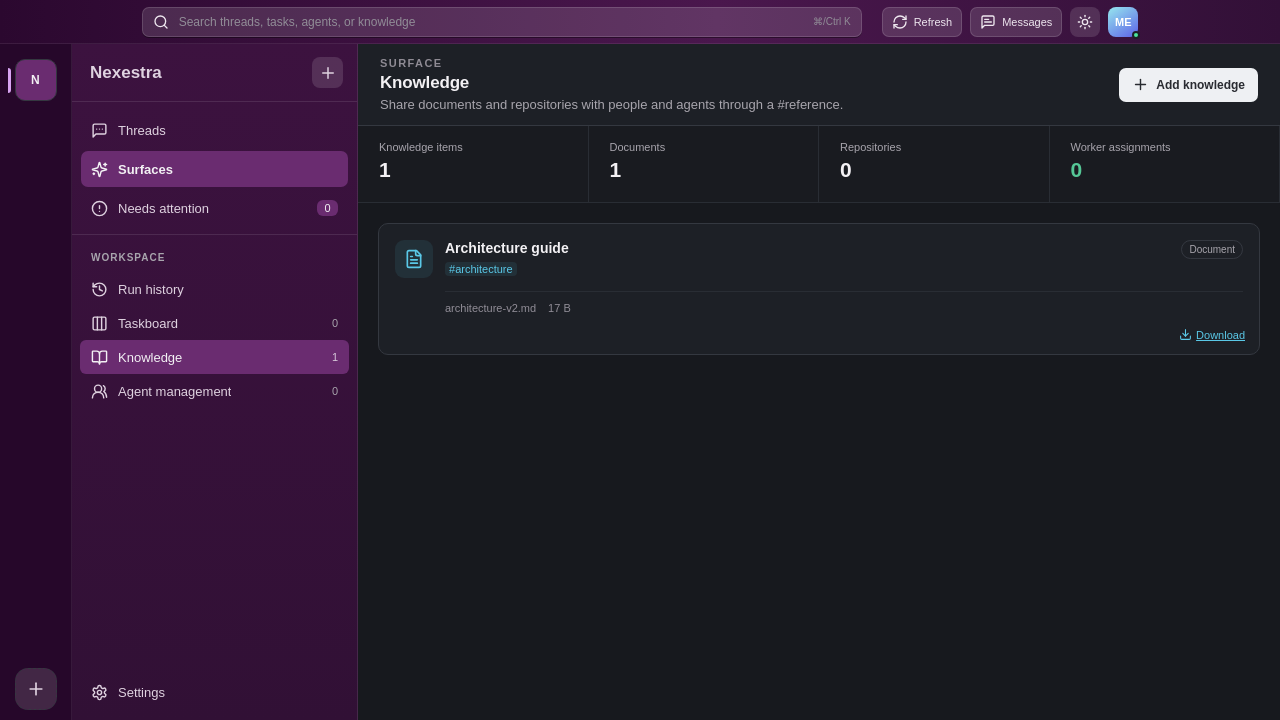
Test: Knowledge document revisions › fetches version history when the detail view opens and keeps old revision downloads
Expected: the heading "Knowledge" is shown, [380,73,469,92]
Click the button with aria-label "View details for Architecture guide" at (819,289), box [379,224,1259,354]
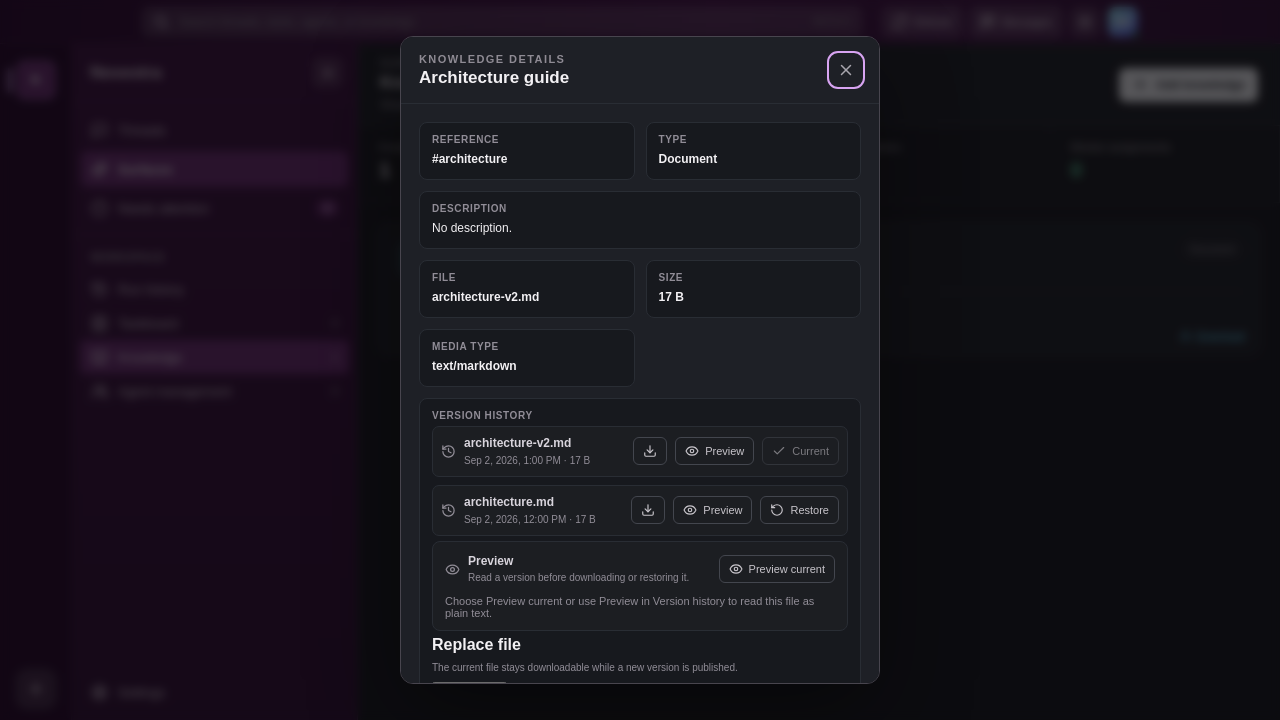
Result: the text "Version history" is shown at [432,410,533,421]
Result: the button with aria-label "Restore architecture.md" is shown at [760,496,839,524]
Result: the button with aria-label "Current architecture-v2.md" is disabled at [762,437,839,465]
